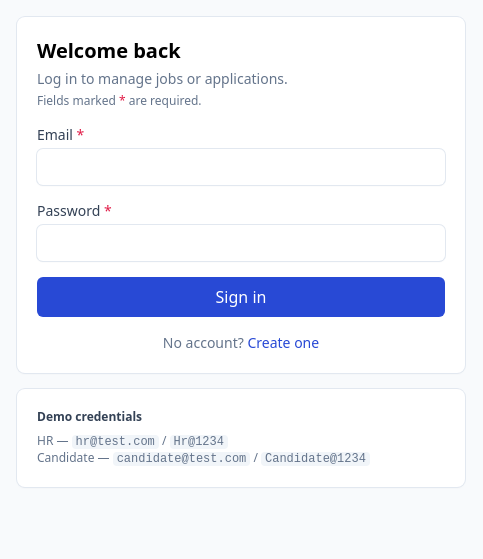
Test: <LoginPage /> › surfaces backend auth errors in a banner
This screenshot has width=483, height=559.
Type "hr@test.com" into the field labelled "Email *". click: [241, 167]
box: [37,149,445,185]
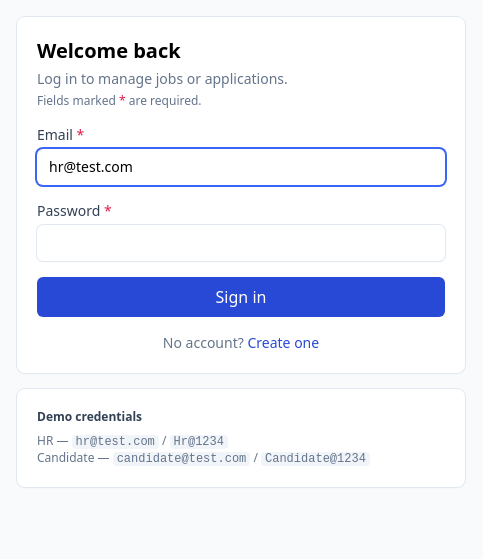
Type "wrong" into the password field labelled "Password *". click: [241, 243]
box: [37,225,445,261]
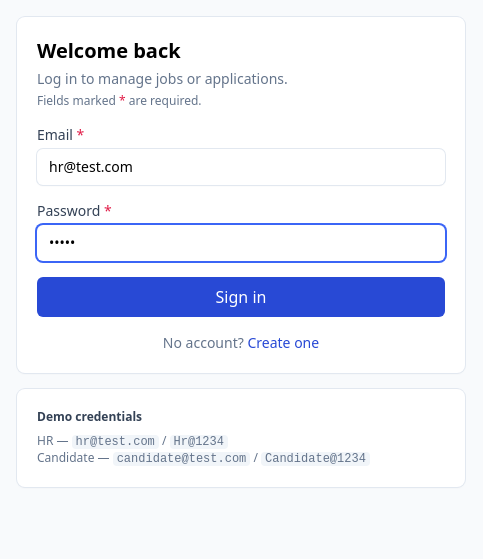
Click the button "Sign in". click: [241, 297]
box: [37,277,445,317]
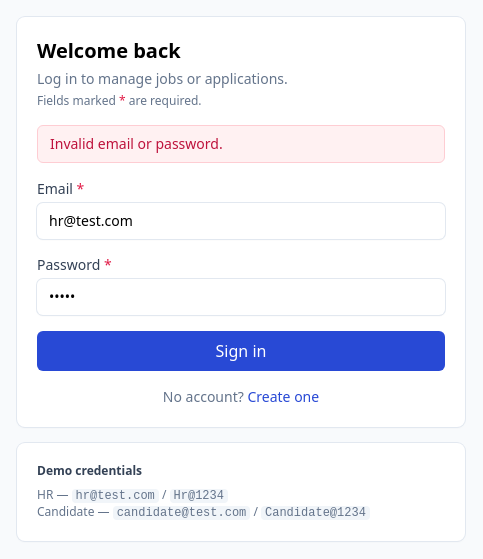
Check: the text "Invalid email or password." is shown, box [37,125,445,163]
